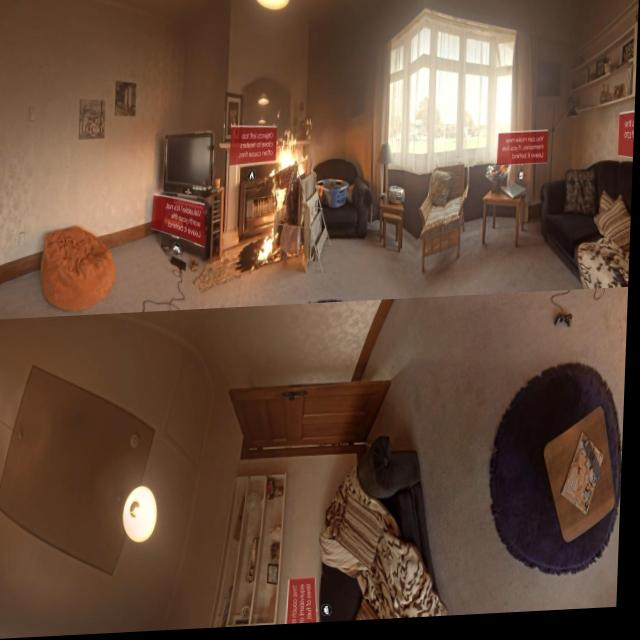fire: (272, 132, 310, 220), (258, 228, 280, 268)
